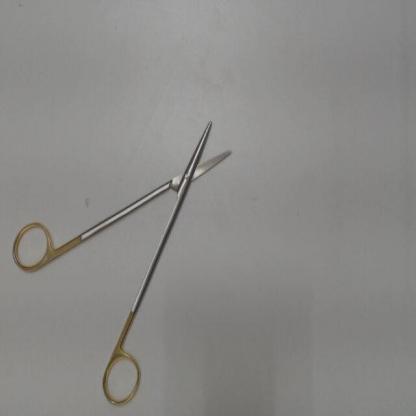7 Metzenbaum Scissors: (9, 112, 238, 412)
